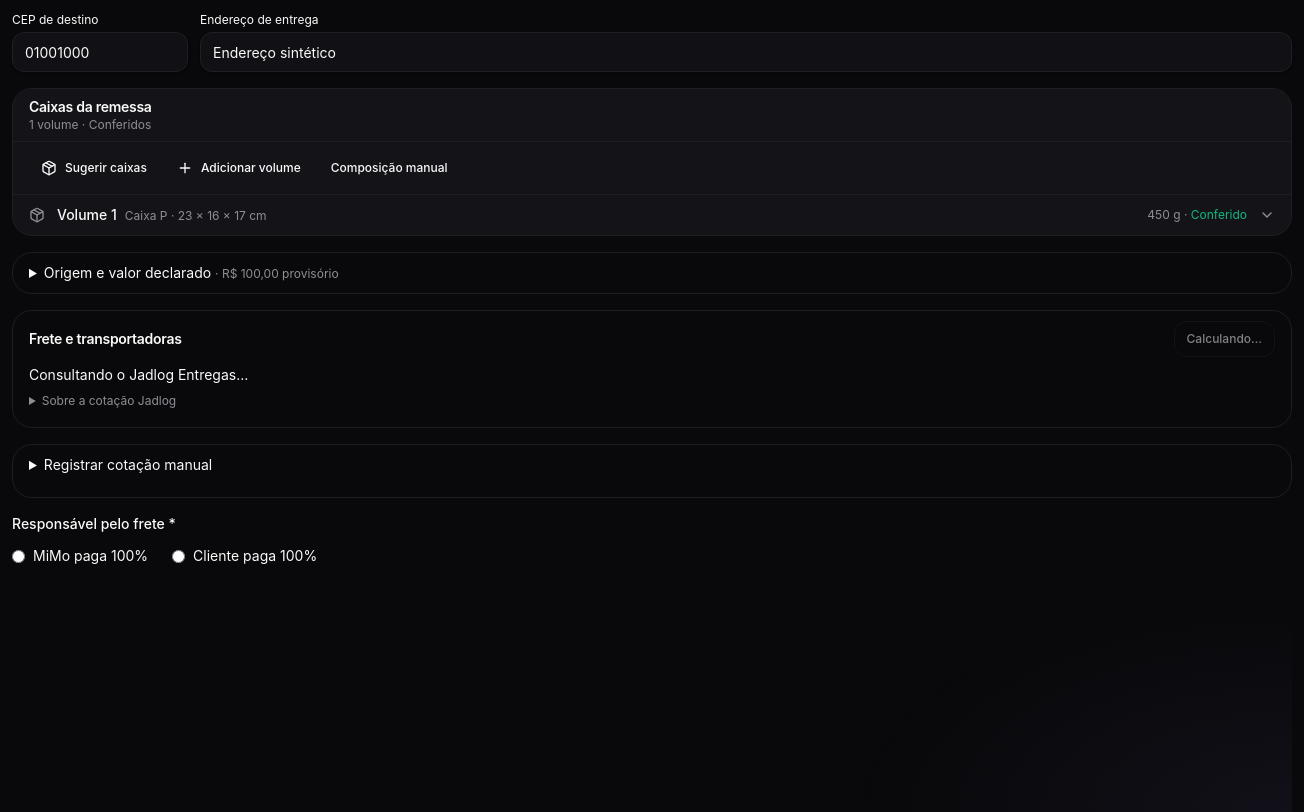
Test: frete automático na entrega › descarta uma resposta antiga quando o CEP muda durante a consulta
Replace the text in the field labelled "CEP de destino" with "02002000" at (100, 52), box [12,32,188,72]
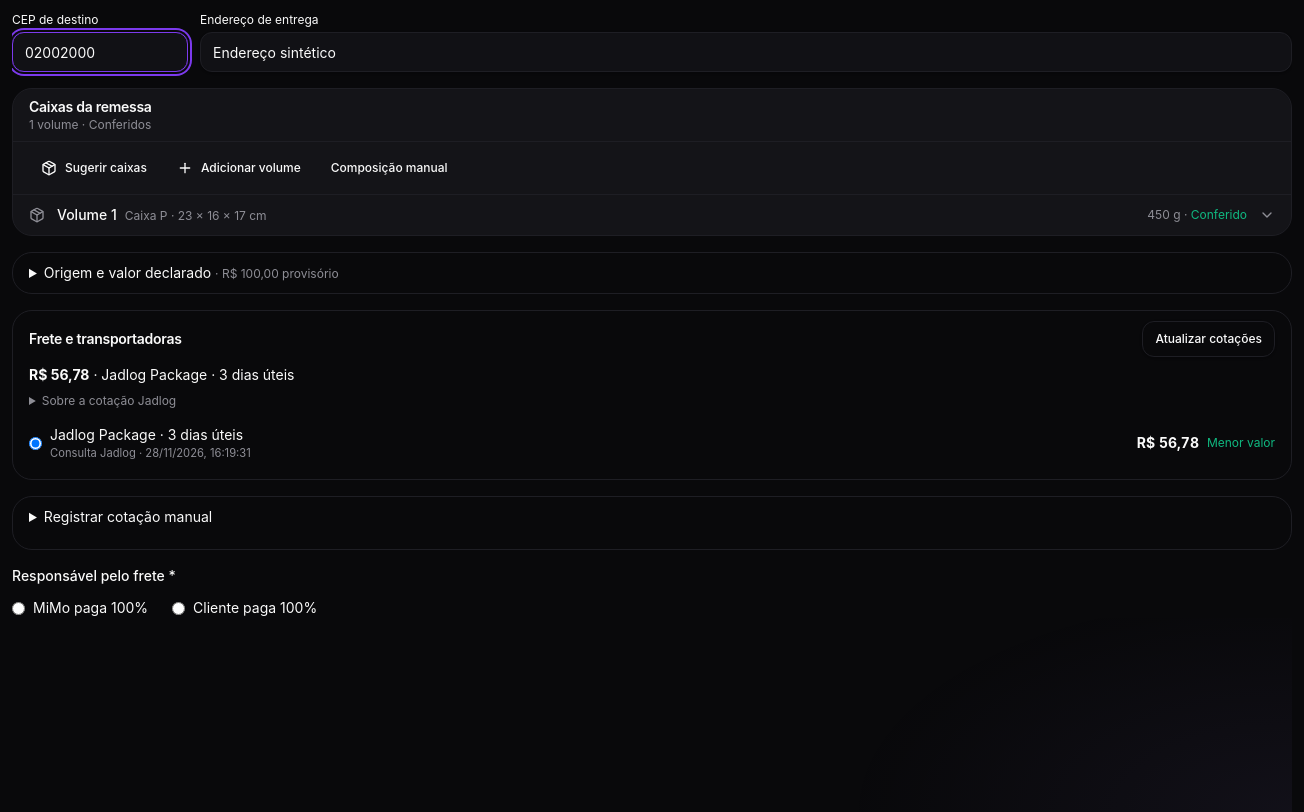
expect the 1st text "R$ 56,78" is shown: met, box [29,366,89,383]
